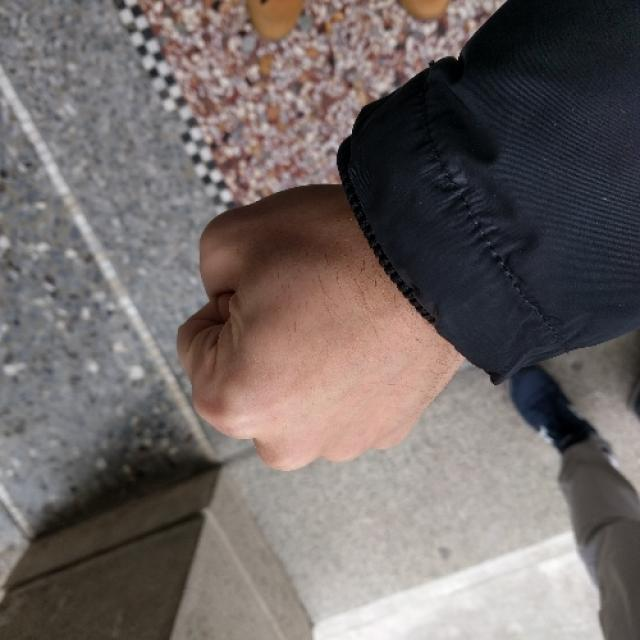rock: (170, 181, 464, 475)
